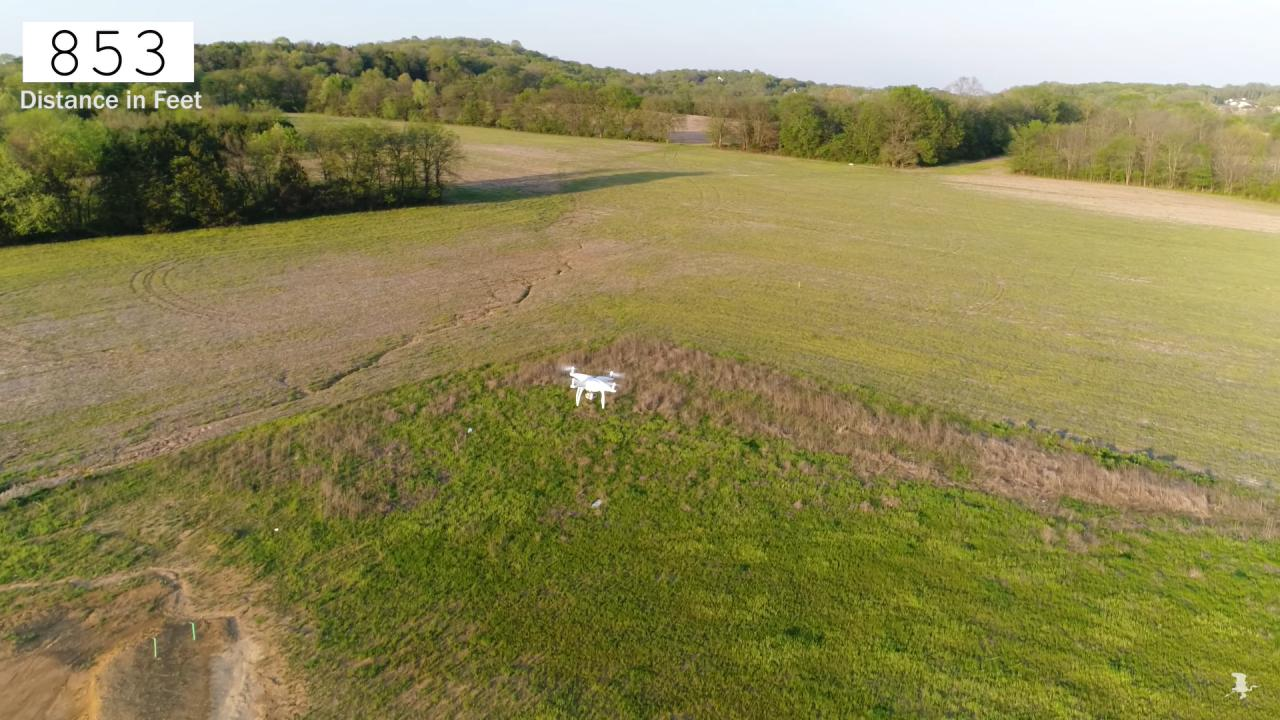Drone: (551, 354, 636, 418)
